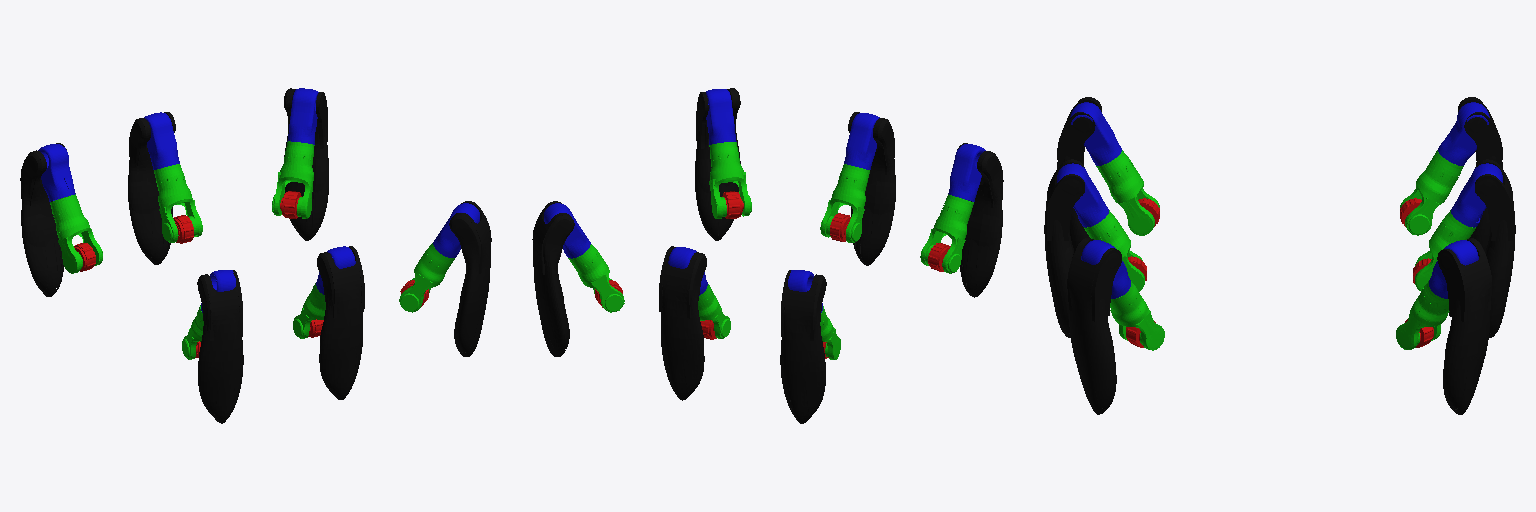
--- What the picture shows (computed from the rendered views, not written in the file) ---
Views: 3 orthographic renders of the robot side by side, from view 1: azimuth 30°, elevation 25°; view 2: azimuth 150°, elevation 25°; view 3: azimuth 270°, elevation 25°.
Robot: crabster — 26 links, 25 joints (24 revolute, 1 fixed); root link world; default pose: every joint at zero.
Links seen in each view (by area): view 1: Subsystem34(RR_Leg), Subsystem24(MR_Leg), Subsystem64(RL_Leg), Subsystem14(FR_Leg), Subsystem54(ML_Leg), Subsystem44(FL_Leg), Subsystem62(RL_Roll_Arm), Subsystem52(ML_Roll_Arm), Subsystem42(FL_Roll_Arm), Subsystem12(FR_Roll_Arm), Subsystem63(RL_Pitch_Arm), Subsystem53(ML_Pitch_Arm) (+5 smaller); view 2: Subsystem64(RL_Leg), Subsystem54(ML_Leg), Subsystem34(RR_Leg), Subsystem44(FL_Leg), Subsystem24(MR_Leg), Subsystem14(FR_Leg), Subsystem32(RR_Roll_Arm), Subsystem22(MR_Roll_Arm), Subsystem12(FR_Roll_Arm), Subsystem42(FL_Roll_Arm), Subsystem33(RR_Pitch_Arm), Subsystem23(MR_Pitch_Arm) (+5 smaller); view 3: Subsystem14(FR_Leg), Subsystem44(FL_Leg), Subsystem54(ML_Leg), Subsystem24(MR_Leg), Subsystem32(RR_Roll_Arm), Subsystem62(RL_Roll_Arm), Subsystem64(RL_Leg), Subsystem34(RR_Leg), Subsystem12(FR_Roll_Arm), Subsystem42(FL_Roll_Arm), Subsystem33(RR_Pitch_Arm), Subsystem63(RL_Pitch_Arm) (+6 smaller).
Link boxes in pixels (x1,y1,x2,y2): Subsystem34(RR_Leg): [197, 270, 243, 423]; Subsystem24(MR_Leg): [317, 246, 364, 399]; Subsystem64(RL_Leg): [20, 143, 66, 296]; Subsystem14(FR_Leg): [449, 201, 491, 356]; Subsystem54(ML_Leg): [128, 112, 175, 264]; Subsystem44(FL_Leg): [284, 88, 328, 240]; Subsystem62(RL_Roll_Arm): [50, 194, 102, 273]; Subsystem52(ML_Roll_Arm): [154, 164, 202, 242]; Subsystem42(FL_Roll_Arm): [272, 141, 314, 218]; Subsystem12(FR_Roll_Arm): [399, 243, 454, 312]; Subsystem63(RL_Pitch_Arm): [38, 144, 75, 201]; Subsystem53(ML_Pitch_Arm): [144, 112, 179, 169]; Subsystem64(RL_Leg): [780, 270, 826, 423]; Subsystem54(ML_Leg): [659, 246, 706, 400]; Subsystem34(RR_Leg): [957, 143, 1003, 297]; Subsystem44(FL_Leg): [532, 201, 574, 356]; Subsystem24(MR_Leg): [848, 112, 895, 265]; Subsystem14(FR_Leg): [695, 88, 740, 240]; Subsystem32(RR_Roll_Arm): [920, 194, 973, 273]; Subsystem22(MR_Roll_Arm): [820, 164, 869, 242]; Subsystem12(FR_Roll_Arm): [709, 142, 751, 218]; Subsystem42(FL_Roll_Arm): [568, 244, 624, 312]; Subsystem33(RR_Pitch_Arm): [948, 144, 985, 201]; Subsystem23(MR_Pitch_Arm): [844, 113, 879, 169]; Subsystem14(FR_Leg): [1067, 238, 1121, 414]; Subsystem44(FL_Leg): [1437, 238, 1491, 414]; Subsystem54(ML_Leg): [1475, 159, 1515, 337]; Subsystem24(MR_Leg): [1044, 159, 1084, 337]; Subsystem32(RR_Roll_Arm): [1096, 150, 1159, 235]; Subsystem62(RL_Roll_Arm): [1400, 150, 1463, 235]; Subsystem64(RL_Leg): [1458, 97, 1502, 252]; Subsystem34(RR_Leg): [1057, 97, 1101, 251]; Subsystem12(FR_Roll_Arm): [1110, 281, 1164, 350]; Subsystem42(FL_Roll_Arm): [1396, 281, 1449, 349]; Subsystem33(RR_Pitch_Arm): [1070, 102, 1121, 165]; Subsystem63(RL_Pitch_Arm): [1438, 102, 1489, 165].
Size in the robot's own frame: 2.15 by 2.6 by 1.04 metres.
24 mesh visuals loaded from 25 distinct referenced files (24 binary STL); not drawn: 1 (reference not matched to a file when rendering).

The robot description file, URDF, robot "crabster":
<?xml version="1.0"?>
<robot
	xmlns:xacro="http://wiki.ros.org/xacro" name="crabster">

	<link name="world"></link>
	<link name="BaseBody">
		<inertial>
			<origin
				xyz="-0.354345 0.000365 -0.054511"
				rpy="0.000644 0.000062 1.570881"/>
			<mass
				value="100.040817"/>
			<inertia
				ixx="37.154571"
				ixy="-0.000000"
				ixz="0.000000"
				iyy="52.546078"
				iyz="0.000000"
				izz="87.239257"/>
		</inertial>
		<visual>
			<origin xyz="0 0 0" rpy="0 0 0"/>
			<geometry>
				<mesh filename="package://crabster_simulator/meshes/BaseBody.STL"/>
			</geometry>
			<material name="">
				<color rgba="0.8 0.8 0.8 1"/>
			</material>
		</visual>
		<collision>
			<origin xyz="0 0 0" rpy="0 0 0"/>
			<geometry>
				<mesh filename="package://crabster_simulator/meshes/BaseBody.STL"/>
			</geometry>
		</collision>
	</link>
	<joint name="world_to_BaseBody" type="fixed">
		<origin
			xyz="0.000000 0.000000 0.000000"
			rpy="0.000000 -0.000000 0.000000"/>
		<parent link="world"/>
		<child link="BaseBody"/>
	</joint>
	<link name="Subsystem11(FR_Yaw_Motor)">
		<inertial>
			<origin
				xyz="-0.000025 -0.004826 0.005438"
				rpy="0.000017 0.000646 1.597550"/>
			<mass
				value="10.281919"/>
			<inertia
				ixx="0.025810"
				ixy="0.000000"
				ixz="-0.000000"
				iyy="0.025875"
				iyz="0.000000"
				izz="0.031298"/>
		</inertial>
		<visual>
			<origin xyz="0 0 0" rpy="0 0 0"/>
			<geometry>
				<mesh filename="package://crabster_simulator/meshes/Subsystem11(FR_Yaw_Motor).STL"/>
			</geometry>
			<material name="">
				<color rgba="0.8 0.1 0.1 1"/>
			</material>
		</visual>
		<collision>
			<origin xyz="0 0 0" rpy="0 0 0"/>
			<geometry>
				<mesh filename="package://crabster_simulator/meshes/Subsystem11(FR_Yaw_Motor).STL"/>
			</geometry>
		</collision>
	</link>
	<joint name="BaseBody_to_Subsystem11(FR_Yaw_Motor)" type="revolute">
		<origin
			xyz="0.416200 -0.760100 -0.005500"
			rpy="0.000000 -0.000000 -0.785398"/>
		<parent link="BaseBody"/>
		<child link="Subsystem11(FR_Yaw_Motor)"/>
		<axis xyz="0 0 1"/>
		<limit
			lower="-3.14"
			upper="3.14"
			effort="10"
			velocity="100"/>
	</joint>
	<link name="Subsystem12(FR_Roll_Arm)">
		<inertial>
			<origin
				xyz="0.216360 -0.000124 -0.001763"
				rpy="-1.570230 0.015923 -3.141552"/>
			<mass
				value="10.085826"/>
			<inertia
				ixx="0.052195"
				ixy="0.000000"
				ixz="-0.000000"
				iyy="0.166548"
				iyz="0.000000"
				izz="0.185913"/>
		</inertial>
		<visual>
			<origin xyz="0 0 0" rpy="0 0 0"/>
			<geometry>
				<mesh filename="package://crabster_simulator/meshes/Subsystem12(FR_Roll_Arm).STL"/>
			</geometry>
			<material name="">
				<color rgba="0.1 0.8 0.1 1"/>
			</material>
		</visual>
		<collision>
			<origin xyz="0 0 0" rpy="0 0 0"/>
			<geometry>
				<mesh filename="package://crabster_simulator/meshes/Subsystem12(FR_Roll_Arm).STL"/>
			</geometry>
		</collision>
	</link>
	<joint name="Subsystem11(FR_Yaw_Motor)_to_Subsystem12(FR_Roll_Arm)" type="revolute">
		<origin
			xyz="0.000000 0.000000 0.000000"
			rpy="-1.570804 -1.047193 0.000009"/>
		<parent link="Subsystem11(FR_Yaw_Motor)"/>
		<child link="Subsystem12(FR_Roll_Arm)"/>
		<axis xyz="0 0 1"/>
		<limit
			lower="-3.14"
			upper="3.14"
			effort="10"
			velocity="100"/>
	</joint>
	<link name="Subsystem13(FR_Pitch_Arm)">
		<inertial>
			<origin
				xyz="-0.000199 0.003130 0.181480"
				rpy="1.527506 -1.549390 -1.518990"/>
			<mass
				value="10.017580"/>
			<inertia
				ixx="0.058985"
				ixy="-0.000000"
				ixz="-0.000000"
				iyy="0.127085"
				iyz="0.000000"
				izz="0.134936"/>
		</inertial>
		<visual>
			<origin xyz="0 0 0" rpy="0 0 0"/>
			<geometry>
				<mesh filename="package://crabster_simulator/meshes/Subsystem13(FR_Pitch_Arm).STL"/>
			</geometry>
			<material name="">
				<color rgba="0.1 0.1 0.8 1"/>
			</material>
		</visual>
		<collision>
			<origin xyz="0 0 0" rpy="0 0 0"/>
			<geometry>
				<mesh filename="package://crabster_simulator/meshes/Subsystem13(FR_Pitch_Arm).STL"/>
			</geometry>
		</collision>
	</link>
	<joint name="Subsystem12(FR_Roll_Arm)_to_Subsystem13(FR_Pitch_Arm)" type="revolute">
		<origin
			xyz="0.394588 -0.000121 -0.000617"
			rpy="-2.356194 -1.570791 -0.785394"/>
		<parent link="Subsystem12(FR_Roll_Arm)"/>
		<child link="Subsystem13(FR_Pitch_Arm)"/>
		<axis xyz="0 0 1"/>
		<limit
			lower="-3.14"
			upper="3.14"
			effort="10"
			velocity="100"/>
	</joint>
	<link name="Subsystem14(FR_Leg)">
		<inertial>
			<origin
				xyz="0.276408 0.382057 -0.007738"
				rpy="-1.556785 -0.045628 1.077894"/>
			<mass
				value="20.079610"/>
			<inertia
				ixx="0.132719"
				ixy="0.000000"
				ixz="0.000000"
				iyy="0.950656"
				iyz="0.000000"
				izz="1.015634"/>
		</inertial>
		<visual>
			<origin xyz="0 0 0" rpy="0 0 0"/>
			<geometry>
				<mesh filename="package://crabster_simulator/meshes/Subsystem14(FR_Leg).STL"/>
			</geometry>
			<material name="">
				<color rgba="0.1 0.1 0.1 1"/>
			</material>
		</visual>
		<collision>
			<origin xyz="0 0 0" rpy="0 0 0"/>
			<geometry>
				<mesh filename="package://crabster_simulator/meshes/Subsystem14(FR_Leg).STL"/>
			</geometry>
		</collision>
	</link>
	<joint name="Subsystem13(FR_Pitch_Arm)_to_Subsystem14(FR_Leg)" type="revolute">
		<origin
			xyz="-0.000090 0.000026 0.263276"
			rpy="-1.570800 -0.000003 -1.570793"/>
		<parent link="Subsystem13(FR_Pitch_Arm)"/>
		<child link="Subsystem14(FR_Leg)"/>
		<axis xyz="0 0 1"/>
		<limit
			lower="-3.14"
			upper="3.14"
			effort="10"
			velocity="100"/>
	</joint>
	<link name="Subsystem21(MR_Yaw_Motor)">
		<inertial>
			<origin
				xyz="-0.000019 -0.004751 0.005430"
				rpy="-3.141460 -1.543093 -1.570929"/>
			<mass
				value="10.297182"/>
			<inertia
				ixx="0.025879"
				ixy="0.000000"
				ixz="0.000000"
				iyy="0.025944"
				iyz="0.000000"
				izz="0.031343"/>
		</inertial>
		<visual>
			<origin xyz="0 0 0" rpy="0 0 0"/>
			<geometry>
				<mesh filename="package://crabster_simulator/meshes/Subsystem21(MR_Yaw_Motor).STL"/>
			</geometry>
			<material name="">
				<color rgba="0.8 0.1 0.1 1"/>
			</material>
		</visual>
		<collision>
			<origin xyz="0 0 0" rpy="0 0 0"/>
			<geometry>
				<mesh filename="package://crabster_simulator/meshes/Subsystem21(MR_Yaw_Motor).STL"/>
			</geometry>
		</collision>
	</link>
	<joint name="BaseBody_to_Subsystem21(MR_Yaw_Motor)" type="revolute">
		<origin
			xyz="-0.343900 -0.817000 -0.005500"
			rpy="0.000000 -0.000000 -1.570800"/>
		<parent link="BaseBody"/>
		<child link="Subsystem21(MR_Yaw_Motor)"/>
		<axis xyz="0 0 1"/>
		<limit
			lower="-3.14"
			upper="3.14"
			effort="10"
			velocity="100"/>
	</joint>
	<link name="Subsystem22(MR_Roll_Arm)">
		<inertial>
			<origin
				xyz="0.217032 -0.000121 -0.000788"
				rpy="-1.570800 0.011003 -3.141562"/>
			<mass
				value="10.022381"/>
			<inertia
				ixx="0.051051"
				ixy="0.000000"
				ixz="0.000000"
				iyy="0.168881"
				iyz="0.000000"
				izz="0.186995"/>
		</inertial>
		<visual>
			<origin xyz="0 0 0" rpy="0 0 0"/>
			<geometry>
				<mesh filename="package://crabster_simulator/meshes/Subsystem22(MR_Roll_Arm).STL"/>
			</geometry>
			<material name="">
				<color rgba="0.1 0.8 0.1 1"/>
			</material>
		</visual>
		<collision>
			<origin xyz="0 0 0" rpy="0 0 0"/>
			<geometry>
				<mesh filename="package://crabster_simulator/meshes/Subsystem22(MR_Roll_Arm).STL"/>
			</geometry>
		</collision>
	</link>
	<joint name="Subsystem21(MR_Yaw_Motor)_to_Subsystem22(MR_Roll_Arm)" type="revolute">
		<origin
			xyz="0.000000 0.000000 0.000000"
			rpy="-1.570804 -1.047193 0.000004"/>
		<parent link="Subsystem21(MR_Yaw_Motor)"/>
		<child link="Subsystem22(MR_Roll_Arm)"/>
		<axis xyz="0 0 1"/>
		<limit
			lower="-3.14"
			upper="3.14"
			effort="10"
			velocity="100"/>
	</joint>
	<link name="Subsystem23(MR_Pitch_Arm)">
		<inertial>
			<origin
				xyz="-0.000134 0.003083 0.181469"
				rpy="1.621831 1.548571 1.630772"/>
			<mass
				value="10.018527"/>
			<inertia
				ixx="0.058979"
				ixy="0.000000"
				ixz="-0.000000"
				iyy="0.127120"
				iyz="-0.000000"
				izz="0.134949"/>
		</inertial>
		<visual>
			<origin xyz="0 0 0" rpy="0 0 0"/>
			<geometry>
				<mesh filename="package://crabster_simulator/meshes/Subsystem23(MR_Pitch_Arm).STL"/>
			</geometry>
			<material name="">
				<color rgba="0.1 0.1 0.8 1"/>
			</material>
		</visual>
		<collision>
			<origin xyz="0 0 0" rpy="0 0 0"/>
			<geometry>
				<mesh filename="package://crabster_simulator/meshes/Subsystem23(MR_Pitch_Arm).STL"/>
			</geometry>
		</collision>
	</link>
	<joint name="Subsystem22(MR_Roll_Arm)_to_Subsystem23(MR_Pitch_Arm)" type="revolute">
		<origin
			xyz="0.394589 -0.000118 -0.000497"
			rpy="-2.356194 -1.570791 -0.785394"/>
		<parent link="Subsystem22(MR_Roll_Arm)"/>
		<child link="Subsystem23(MR_Pitch_Arm)"/>
		<axis xyz="0 0 1"/>
		<limit
			lower="-3.14"
			upper="3.14"
			effort="10"
			velocity="100"/>
	</joint>
	<link name="Subsystem24(MR_Leg)">
		<inertial>
			<origin
				xyz="0.276869 0.381100 -0.012619"
				rpy="-1.587808 0.029798 -2.066940"/>
			<mass
				value="20.080756"/>
			<inertia
				ixx="0.135168"
				ixy="-0.000000"
				ixz="0.000000"
				iyy="0.931520"
				iyz="0.000000"
				izz="0.998541"/>
		</inertial>
		<visual>
			<origin xyz="0 0 0" rpy="0 0 0"/>
			<geometry>
				<mesh filename="package://crabster_simulator/meshes/Subsystem24(MR_Leg).STL"/>
			</geometry>
			<material name="">
				<color rgba="0.1 0.1 0.1 1"/>
			</material>
		</visual>
		<collision>
			<origin xyz="0 0 0" rpy="0 0 0"/>
			<geometry>
				<mesh filename="package://crabster_simulator/meshes/Subsystem24(MR_Leg).STL"/>
			</geometry>
		</collision>
	</link>
	<joint name="Subsystem23(MR_Pitch_Arm)_to_Subsystem24(MR_Leg)" type="revolute">
		<origin
			xyz="-0.000003 -0.000018 0.263185"
			rpy="-1.570800 -0.000003 -1.570793"/>
		<parent link="Subsystem23(MR_Pitch_Arm)"/>
		<child link="Subsystem24(MR_Leg)"/>
		<axis xyz="0 0 1"/>
		<limit
			lower="-3.14"
			upper="3.14"
			effort="10"
			velocity="100"/>
	</joint>
	<link name="Subsystem31(RR_Yaw_Motor)">
		<inertial>
			<origin
				xyz="-0.000014 -0.004760 0.005430"
				rpy="-0.000133 -1.543090 -1.570686"/>
			<mass
				value="10.297183"/>
			<inertia
				ixx="0.025879"
				ixy="0.000000"
				ixz="0.000000"
				iyy="0.025944"
				iyz="0.000000"
				izz="0.031343"/>
		</inertial>
		<visual>
			<origin xyz="0 0 0" rpy="0 0 0"/>
			<geometry>
				<mesh filename="package://crabster_simulator/meshes/Subsystem31(RR_Yaw_Motor).STL"/>
			</geometry>
			<material name="">
				<color rgba="0.8 0.1 0.1 1"/>
			</material>
		</visual>
		<collision>
			<origin xyz="0 0 0" rpy="0 0 0"/>
			<geometry>
				<mesh filename="package://crabster_simulator/meshes/Subsystem31(RR_Yaw_Motor).STL"/>
			</geometry>
		</collision>
	</link>
	<joint name="BaseBody_to_Subsystem31(RR_Yaw_Motor)" type="revolute">
		<origin
			xyz="-1.102100 -0.748200 -0.005500"
			rpy="0.000000 -0.000000 -1.745330"/>
		<parent link="BaseBody"/>
		<child link="Subsystem31(RR_Yaw_Motor)"/>
		<axis xyz="0 0 1"/>
		<limit
			lower="-3.14"
			upper="3.14"
			effort="10"
			velocity="100"/>
	</joint>
	<link name="Subsystem32(RR_Roll_Arm)">
		<inertial>
			<origin
				xyz="0.217342 -0.000116 -0.001058"
				rpy="-1.570780 0.014633 -3.141562"/>
			<mass
				value="10.002542"/>
			<inertia
				ixx="0.050701"
				ixy="-0.000000"
				ixz="0.000000"
				iyy="0.168306"
				iyz="0.000000"
				izz="0.186120"/>
		</inertial>
		<visual>
			<origin xyz="0 0 0" rpy="0 0 0"/>
			<geometry>
				<mesh filename="package://crabster_simulator/meshes/Subsystem32(RR_Roll_Arm).STL"/>
			</geometry>
			<material name="">
				<color rgba="0.1 0.8 0.1 1"/>
			</material>
		</visual>
		<collision>
			<origin xyz="0 0 0" rpy="0 0 0"/>
			<geometry>
				<mesh filename="package://crabster_simulator/meshes/Subsystem32(RR_Roll_Arm).STL"/>
			</geometry>
		</collision>
	</link>
	<joint name="Subsystem31(RR_Yaw_Motor)_to_Subsystem32(RR_Roll_Arm)" type="revolute">
		<origin
			xyz="0.000000 0.000000 0.000000"
			rpy="-1.570804 -1.047193 0.000004"/>
		<parent link="Subsystem31(RR_Yaw_Motor)"/>
		<child link="Subsystem32(RR_Roll_Arm)"/>
		<axis xyz="0 0 1"/>
		<limit
			lower="-3.14"
			upper="3.14"
			effort="10"
			velocity="100"/>
	</joint>
	<link name="Subsystem33(RR_Pitch_Arm)">
		<inertial>
			<origin
				xyz="-0.015934 0.001556 0.180794"
				rpy="0.308521 1.480663 0.341804"/>
			<mass
				value="10.018360"/>
			<inertia
				ixx="0.058982"
				ixy="-0.000000"
				ixz="-0.000000"
				iyy="0.127126"
				iyz="0.000000"
				izz="0.134959"/>
		</inertial>
		<visual>
			<origin xyz="0 0 0" rpy="0 0 0"/>
			<geometry>
				<mesh filename="package://crabster_simulator/meshes/Subsystem33(RR_Pitch_Arm).STL"/>
			</geometry>
			<material name="">
				<color rgba="0.1 0.1 0.8 1"/>
			</material>
		</visual>
		<collision>
			<origin xyz="0 0 0" rpy="0 0 0"/>
			<geometry>
				<mesh filename="package://crabster_simulator/meshes/Subsystem33(RR_Pitch_Arm).STL"/>
			</geometry>
		</collision>
	</link>
	<joint name="Subsystem32(RR_Roll_Arm)_to_Subsystem33(RR_Pitch_Arm)" type="revolute">
		<origin
			xyz="0.394592 -0.000114 -0.000510"
			rpy="0.257951 -1.480877 2.876035"/>
		<parent link="Subsystem32(RR_Roll_Arm)"/>
		<child link="Subsystem33(RR_Pitch_Arm)"/>
		<axis xyz="0 0 1"/>
		<limit
			lower="-3.14"
			upper="3.14"
			effort="10"
			velocity="100"/>
	</joint>
	<link name="Subsystem34(RR_Leg)">
		<inertial>
			<origin
				xyz="0.275951 0.381784 -0.009989"
				rpy="-1.586181 0.038348 -2.061123"/>
			<mass
				value="20.076146"/>
			<inertia
				ixx="0.135488"
				ixy="0.000000"
				ixz="0.000000"
				iyy="0.932842"
				iyz="0.000000"
				izz="0.999247"/>
		</inertial>
		<visual>
			<origin xyz="0 0 0" rpy="0 0 0"/>
			<geometry>
				<mesh filename="package://crabster_simulator/meshes/Subsystem34(RR_Leg).STL"/>
			</geometry>
			<material name="">
				<color rgba="0.1 0.1 0.1 1"/>
			</material>
		</visual>
		<collision>
			<origin xyz="0 0 0" rpy="0 0 0"/>
			<geometry>
				<mesh filename="package://crabster_simulator/meshes/Subsystem34(RR_Leg).STL"/>
			</geometry>
		</collision>
	</link>
	<joint name="Subsystem33(RR_Pitch_Arm)_to_Subsystem34(RR_Leg)" type="revolute">
		<origin
			xyz="-0.022817 -0.002213 0.262262"
			rpy="-1.483858 0.006578 -1.547219"/>
		<parent link="Subsystem33(RR_Pitch_Arm)"/>
		<child link="Subsystem34(RR_Leg)"/>
		<axis xyz="0 0 1"/>
		<limit
			lower="-3.14"
			upper="3.14"
			effort="10"
			velocity="100"/>
	</joint>
	<link name="Subsystem41(FL_Yaw_Motor)">
		<inertial>
			<origin
				xyz="-0.000019 0.005340 0.005552"
				rpy="-0.163411 -1.557067 1.734883"/>
			<mass
				value="10.293062"/>
			<inertia
				ixx="0.025362"
				ixy="0.000000"
				ixz="0.000000"
				iyy="0.025418"
				iyz="-0.000000"
				izz="0.031384"/>
		</inertial>
		<visual>
			<origin xyz="0 0 0" rpy="0 0 0"/>
			<geometry>
				<mesh filename="package://crabster_simulator/meshes/Subsystem41(FL_Yaw_Motor).STL"/>
			</geometry>
			<material name="">
				<color rgba="0.8 0.1 0.1 1"/>
			</material>
		</visual>
		<collision>
			<origin xyz="0 0 0" rpy="0 0 0"/>
			<geometry>
				<mesh filename="package://crabster_simulator/meshes/Subsystem41(FL_Yaw_Motor).STL"/>
			</geometry>
		</collision>
	</link>
	<joint name="BaseBody_to_Subsystem41(FL_Yaw_Motor)" type="revolute">
		<origin
			xyz="0.415800 0.760500 -0.005500"
			rpy="0.000000 -0.000000 0.785398"/>
		<parent link="BaseBody"/>
		<child link="Subsystem41(FL_Yaw_Motor)"/>
		<axis xyz="0 0 1"/>
		<limit
			lower="-3.14"
			upper="3.14"
			effort="10"
			velocity="100"/>
	</joint>
	<link name="Subsystem42(FL_Roll_Arm)">
		<inertial>
			<origin
				xyz="0.216179 -0.000121 0.006365"
				rpy="1.570208 -0.089580 -3.141517"/>
			<mass
				value="10.035839"/>
			<inertia
				ixx="0.050344"
				ixy="0.000000"
				ixz="-0.000000"
				iyy="0.169804"
				iyz="-0.000000"
				izz="0.187514"/>
		</inertial>
		<visual>
			<origin xyz="0 0 0" rpy="0 0 0"/>
			<geometry>
				<mesh filename="package://crabster_simulator/meshes/Subsystem42(FL_Roll_Arm).STL"/>
			</geometry>
			<material name="">
				<color rgba="0.1 0.8 0.1 1"/>
			</material>
		</visual>
		<collision>
			<origin xyz="0 0 0" rpy="0 0 0"/>
			<geometry>
				<mesh filename="package://crabster_simulator/meshes/Subsystem42(FL_Roll_Arm).STL"/>
			</geometry>
		</collision>
	</link>
	<joint name="Subsystem41(FL_Yaw_Motor)_to_Subsystem42(FL_Roll_Arm)" type="revolute">
		<origin
			xyz="0.000000 0.000000 0.000000"
			rpy="-1.570804 -1.047193 0.000004"/>
		<parent link="Subsystem41(FL_Yaw_Motor)"/>
		<child link="Subsystem42(FL_Roll_Arm)"/>
		<axis xyz="0 0 1"/>
		<limit
			lower="-3.14"
			upper="3.14"
			effort="10"
			velocity="100"/>
	</joint>
	<link name="Subsystem43(FL_Pitch_Arm)">
		<inertial>
			<origin
				xyz="-0.000004 0.003202 0.178836"
				rpy="1.578956 -1.547059 -1.576808"/>
			<mass
				value="10.041873"/>
			<inertia
				ixx="0.059072"
				ixy="0.000000"
				ixz="-0.000000"
				iyy="0.127303"
				iyz="-0.000000"
				izz="0.135132"/>
		</inertial>
		<visual>
			<origin xyz="0 0 0" rpy="0 0 0"/>
			<geometry>
				<mesh filename="package://crabster_simulator/meshes/Subsystem43(FL_Pitch_Arm).STL"/>
			</geometry>
			<material name="">
				<color rgba="0.1 0.1 0.8 1"/>
			</material>
		</visual>
		<collision>
			<origin xyz="0 0 0" rpy="0 0 0"/>
			<geometry>
				<mesh filename="package://crabster_simulator/meshes/Subsystem43(FL_Pitch_Arm).STL"/>
			</geometry>
		</collision>
	</link>
	<joint name="Subsystem42(FL_Roll_Arm)_to_Subsystem43(FL_Pitch_Arm)" type="revolute">
		<origin
			xyz="0.394591 -0.000116 0.000057"
			rpy="-2.356194 -1.570791 -0.785394"/>
		<parent link="Subsystem42(FL_Roll_Arm)"/>
		<child link="Subsystem43(FL_Pitch_Arm)"/>
		<axis xyz="0 0 1"/>
		<limit
			lower="-3.14"
			upper="3.14"
			effort="10"
			velocity="100"/>
	</joint>
	<link name="Subsystem44(FL_Leg)">
		<inertial>
			<origin
				xyz="0.278336 0.384882 0.008398"
				rpy="-1.551276 -0.037865 -2.066612"/>
			<mass
				value="20.000655"/>
			<inertia
				ixx="0.131191"
				ixy="0.000000"
				ixz="-0.000000"
				iyy="0.959954"
				iyz="0.000000"
				izz="1.024569"/>
		</inertial>
		<visual>
			<origin xyz="0 0 0" rpy="0 0 0"/>
			<geometry>
				<mesh filename="package://crabster_simulator/meshes/Subsystem44(FL_Leg).STL"/>
			</geometry>
			<material name="">
				<color rgba="0.1 0.1 0.1 1"/>
			</material>
		</visual>
		<collision>
			<origin xyz="0 0 0" rpy="0 0 0"/>
			<geometry>
				<mesh filename="package://crabster_simulator/meshes/Subsystem44(FL_Leg).STL"/>
			</geometry>
		</collision>
	</link>
	<joint name="Subsystem43(FL_Pitch_Arm)_to_Subsystem44(FL_Leg)" type="revolute">
		<origin
			xyz="0.000031 0.000031 0.260960"
			rpy="-1.570800 -0.000003 -1.570793"/>
		<parent link="Subsystem43(FL_Pitch_Arm)"/>
		<child link="Subsystem44(FL_Leg)"/>
		<axis xyz="0 0 1"/>
		<limit
			lower="-3.14"
			upper="3.14"
			effort="10"
			velocity="100"/>
	</joint>
	<link name="Subsystem51(ML_Yaw_Motor)">
		<inertial>
			<origin
				xyz="-0.000010 0.004754 0.005430"
				rpy="-3.141460 -1.543113 1.570666"/>
			<mass
				value="10.297596"/>
			<inertia
				ixx="0.025881"
				ixy="0.000000"
				ixz="0.000000"
				iyy="0.025946"
				iyz="0.000000"
				izz="0.031343"/>
		</inertial>
		<visual>
			<origin xyz="0 0 0" rpy="0 0 0"/>
			<geometry>
				<mesh filename="package://crabster_simulator/meshes/Subsystem51(ML_Yaw_Motor).STL"/>
			</geometry>
			<material name="">
				<color rgba="0.8 0.1 0.1 1"/>
			</material>
		</visual>
		<collision>
			<origin xyz="0 0 0" rpy="0 0 0"/>
			<geometry>
				<mesh filename="package://crabster_simulator/meshes/Subsystem51(ML_Yaw_Motor).STL"/>
			</geometry>
		</collision>
	</link>
	<joint name="BaseBody_to_Subsystem51(ML_Yaw_Motor)" type="revolute">
		<origin
			xyz="-0.343900 0.817000 -0.005500"
			rpy="0.000000 -0.000000 1.570800"/>
		<parent link="BaseBody"/>
		<child link="Subsystem51(ML_Yaw_Motor)"/>
		<axis xyz="0 0 1"/>
		<limit
			lower="-3.14"
			upper="3.14"
			effort="10"
			velocity="100"/>
	</joint>
	<link name="Subsystem52(ML_Roll_Arm)">
		<inertial>
			<origin
				xyz="0.231000 -0.000113 0.007114"
				rpy="1.570790 -0.148957 -3.141559"/>
			<mass
				value="10.027569"/>
			<inertia
				ixx="0.045029"
				ixy="0.000000"
				ixz="0.000000"
				iyy="0.149452"
				iyz="0.000000"
				izz="0.160978"/>
		</inertial>
		<visual>
			<origin xyz="0 0 0" rpy="0 0 0"/>
			<geometry>
				<mesh filename="package://crabster_simulator/meshes/Subsystem52(ML_Roll_Arm).STL"/>
			</geometry>
			<material name="">
				<color rgba="0.1 0.8 0.1 1"/>
			</material>
		</visual>
		<collision>
			<origin xyz="0 0 0" rpy="0 0 0"/>
			<geometry>
				<mesh filename="package://crabster_simulator/meshes/Subsystem52(ML_Roll_Arm).STL"/>
			</geometry>
		</collision>
	</link>
	<joint name="Subsystem51(ML_Yaw_Motor)_to_Subsystem52(ML_Roll_Arm)" type="revolute">
		<origin
			xyz="0.000000 0.000000 0.000000"
			rpy="-1.570796 -1.047193 -0.000000"/>
		<parent link="Subsystem51(ML_Yaw_Motor)"/>
		<child link="Subsystem52(ML_Roll_Arm)"/>
		<axis xyz="0 0 1"/>
		<limit
			lower="-3.14"
			upper="3.14"
			effort="10"
			velocity="100"/>
	</joint>
	<link name="Subsystem53(ML_Pitch_Arm)">
		<inertial>
			<origin
				xyz="0.000023 -0.000020 0.122713"
				rpy="-1.667696 1.569828 1.474273"/>
			<mass
				value="10.063326"/>
			<inertia
				ixx="0.025847"
				ixy="0.000000"
				ixz="0.000000"
				iyy="0.061469"
				iyz="0.000000"
				izz="0.061623"/>
		</inertial>
		<visual>
			<origin xyz="0 0 0" rpy="0 0 0"/>
			<geometry>
				<mesh filename="package://crabster_simulator/meshes/Subsystem53(ML_Pitch_Arm).STL"/>
			</geometry>
			<material name="">
				<color rgba="0.1 0.1 0.8 1"/>
			</material>
		</visual>
		<collision>
			<origin xyz="0 0 0" rpy="0 0 0"/>
			<geometry>
				<mesh filename="package://crabster_simulator/meshes/Subsystem53(ML_Pitch_Arm).STL"/>
			</geometry>
		</collision>
	</link>
	<joint name="Subsystem52(ML_Roll_Arm)_to_Subsystem53(ML_Pitch_Arm)" type="revolute">
		<origin
			xyz="0.394594 -0.000111 0.000497"
			rpy="0.785398 -1.570796 2.356194"/>
		<parent link="Subsystem52(ML_Roll_Arm)"/>
		<child link="Subsystem53(ML_Pitch_Arm)"/>
		<axis xyz="0 0 1"/>
		<limit
			lower="-3.14"
			upper="3.14"
			effort="10"
			velocity="100"/>
	</joint>
	<link name="Subsystem54(ML_Leg)">
		<inertial>
			<origin
				xyz="0.276829 0.381056 0.012302"
				rpy="1.555582 0.032540 1.074795"/>
			<mass
				value="20.065685"/>
			<inertia
				ixx="0.134993"
				ixy="0.000000"
				ixz="0.000000"
				iyy="0.931335"
				iyz="0.000000"
				izz="0.998133"/>
		</inertial>
		<visual>
			<origin xyz="0 0 0" rpy="0 0 0"/>
			<geometry>
				<mesh filename="package://crabster_simulator/meshes/Subsystem54(ML_Leg).STL"/>
			</geometry>
			<material name="">
				<color rgba="0.1 0.1 0.1 1"/>
			</material>
		</visual>
		<collision>
			<origin xyz="0 0 0" rpy="0 0 0"/>
			<geometry>
				<mesh filename="package://crabster_simulator/meshes/Subsystem54(ML_Leg).STL"/>
			</geometry>
		</collision>
	</link>
	<joint name="Subsystem53(ML_Pitch_Arm)_to_Subsystem54(ML_Leg)" type="revolute">
		<origin
			xyz="0.000003 -0.000010 0.263181"
			rpy="-1.570796 -0.000000 -1.570796"/>
		<parent link="Subsystem53(ML_Pitch_Arm)"/>
		<child link="Subsystem54(ML_Leg)"/>
		<axis xyz="0 0 1"/>
		<limit
			lower="-3.14"
			upper="3.14"
			effort="10"
			velocity="100"/>
	</joint>
	<link name="Subsystem61(RL_Yaw_Motor)">
		<inertial>
			<origin
				xyz="-0.000005 0.004759 0.005430"
				rpy="-3.141460 -1.543093 1.570686"/>
			<mass
				value="10.297183"/>
			<inertia
				ixx="0.025879"
				ixy="-0.000000"
				ixz="0.000000"
				iyy="0.025944"
				iyz="-0.000000"
				izz="0.031343"/>
		</inertial>
		<visual>
			<origin xyz="0 0 0" rpy="0 0 0"/>
			<geometry>
				<mesh filename="package://crabster_simulator/meshes/Subsystem61(RL_Yaw_Motor).STL"/>
			</geometry>
			<material name="">
				<color rgba="0.8 0.1 0.1 1"/>
			</material>
		</visual>
		<collision>
			<origin xyz="0 0 0" rpy="0 0 0"/>
			<geometry>
				<mesh filename="package://crabster_simulator/meshes/Subsystem61(RL_Yaw_Motor).STL"/>
			</geometry>
		</collision>
	</link>
	<joint name="BaseBody_to_Subsystem61(RL_Yaw_Motor)" type="revolute">
		<origin
			xyz="-1.102100 0.748200 -0.005500"
			rpy="0.000000 -0.000000 1.745330"/>
		<parent link="BaseBody"/>
		<child link="Subsystem61(RL_Yaw_Motor)"/>
		<axis xyz="0 0 1"/>
		<limit
			lower="-3.14"
			upper="3.14"
			effort="10"
			velocity="100"/>
	</joint>
	<link name="Subsystem62(RL_Roll_Arm)">
		<inertial>
			<origin
				xyz="0.217346 -0.000109 0.001056"
				rpy="1.570780 -0.014637 -3.141560"/>
			<mass
				value="10.002542"/>
			<inertia
				ixx="0.050701"
				ixy="-0.000000"
				ixz="0.000000"
				iyy="0.168306"
				iyz="-0.000000"
				izz="0.186120"/>
		</inertial>
		<visual>
			<origin xyz="0 0 0" rpy="0 0 0"/>
			<geometry>
				<mesh filename="package://crabster_simulator/meshes/Subsystem62(RL_Roll_Arm).STL"/>
			</geometry>
			<material name="">
				<color rgba="0.1 0.8 0.1 1"/>
			</material>
		</visual>
		<collision>
			<origin xyz="0 0 0" rpy="0 0 0"/>
			<geometry>
				<mesh filename="package://crabster_simulator/meshes/Subsystem62(RL_Roll_Arm).STL"/>
			</geometry>
		</collision>
	</link>
	<joint name="Subsystem61(RL_Yaw_Motor)_to_Subsystem62(RL_Roll_Arm)" type="revolute">
		<origin
			xyz="0.000000 0.000000 0.000000"
			rpy="-1.570804 -1.047193 0.000004"/>
		<parent link="Subsystem61(RL_Yaw_Motor)"/>
		<child link="Subsystem62(RL_Roll_Arm)"/>
		<axis xyz="0 0 1"/>
		<limit
			lower="-3.14"
			upper="3.14"
			effort="10"
			velocity="100"/>
	</joint>
	<link name="Subsystem63(RL_Pitch_Arm)">
		<inertial>
			<origin
				xyz="0.015755 0.001622 0.180482"
				rpy="-0.344738 1.479048 2.774078"/>
			<mass
				value="10.042014"/>
			<inertia
				ixx="0.059074"
				ixy="-0.000000"
				ixz="0.000000"
				iyy="0.127318"
				iyz="0.000000"
				izz="0.135133"/>
		</inertial>
		<visual>
			<origin xyz="0 0 0" rpy="0 0 0"/>
			<geometry>
				<mesh filename="package://crabster_simulator/meshes/Subsystem63(RL_Pitch_Arm).STL"/>
			</geometry>
			<material name="">
				<color rgba="0.1 0.1 0.8 1"/>
			</material>
		</visual>
		<collision>
			<origin xyz="0 0 0" rpy="0 0 0"/>
			<geometry>
				<mesh filename="package://crabster_simulator/meshes/Subsystem63(RL_Pitch_Arm).STL"/>
			</geometry>
		</collision>
	</link>
	<joint name="Subsystem62(RL_Roll_Arm)_to_Subsystem63(RL_Pitch_Arm)" type="revolute">
		<origin
			xyz="0.394596 -0.000106 0.000509"
			rpy="-2.883555 -1.480878 -0.265645"/>
		<parent link="Subsystem62(RL_Roll_Arm)"/>
		<child link="Subsystem63(RL_Pitch_Arm)"/>
		<axis xyz="0 0 1"/>
		<limit
			lower="-3.14"
			upper="3.14"
			effort="10"
			velocity="100"/>
	</joint>
	<link name="Subsystem64(RL_Leg)">
		<inertial>
			<origin
				xyz="0.277373 0.385141 0.010089"
				rpy="1.552839 0.035081 1.081710"/>
			<mass
				value="20.006482"/>
			<inertia
				ixx="0.134418"
				ixy="0.000000"
				ixz="0.000000"
				iyy="0.944028"
				iyz="0.000000"
				izz="1.009798"/>
		</inertial>
		<visual>
			<origin xyz="0 0 0" rpy="0 0 0"/>
			<geometry>
				<mesh filename="package://crabster_simulator/meshes/Subsystem64(RL_Leg).STL"/>
			</geometry>
			<material name="">
				<color rgba="0.1 0.1 0.1 1"/>
			</material>
		</visual>
		<collision>
			<origin xyz="0 0 0" rpy="0 0 0"/>
			<geometry>
				<mesh filename="package://crabster_simulator/meshes/Subsystem64(RL_Leg).STL"/>
			</geometry>
		</collision>
	</link>
	<joint name="Subsystem63(RL_Pitch_Arm)_to_Subsystem64(RL_Leg)" type="revolute">
		<origin
			xyz="0.022901 -0.002308 0.262307"
			rpy="-1.657732 0.006578 -1.594366"/>
		<parent link="Subsystem63(RL_Pitch_Arm)"/>
		<child link="Subsystem64(RL_Leg)"/>
		<axis xyz="0 0 1"/>
		<limit
			lower="-3.14"
			upper="3.14"
			effort="10"
			velocity="100"/>
	</joint>
</robot>
